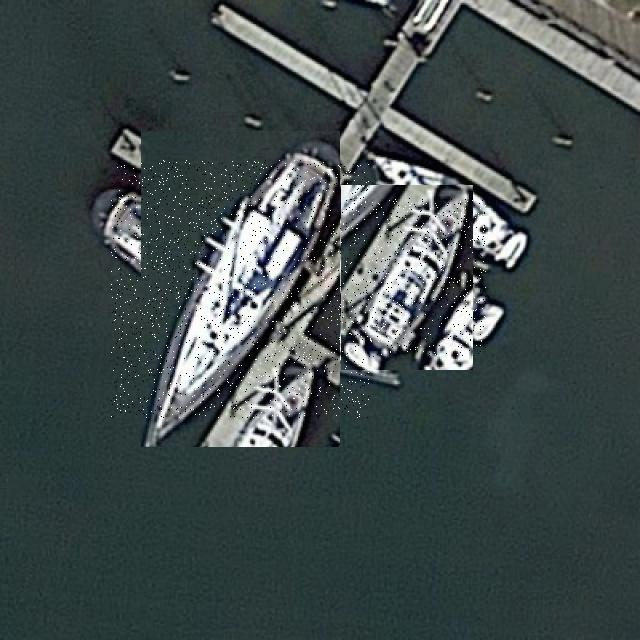boat: (111, 160, 369, 418), (327, 198, 486, 357), (360, 142, 530, 270)
